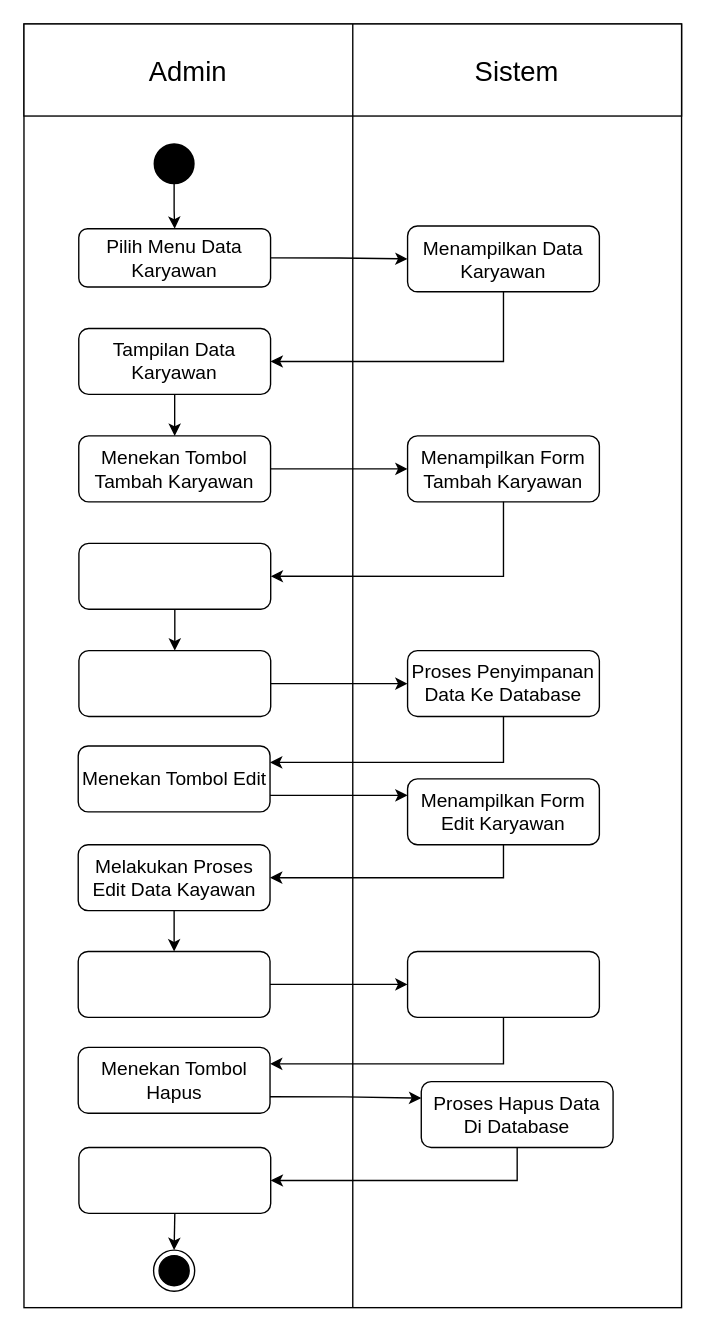
Some shapes in this 706 by 1333 pixel diagram are drawn without their labels. The shapes that lost their labels are listed below. From the top down, each one's box as (x1, y1, x2, y2) in pixels, then its label:
(78, 542, 271, 609): Mengisi Form Tambah Karyawan
(78, 649, 271, 717): Menekan Tombol Simpan
(77, 950, 270, 1017): Menekan Tombol Update
(406, 950, 599, 1017): Proses Update Data Di Database
(78, 1146, 271, 1213): Tampilan Data Karawan
